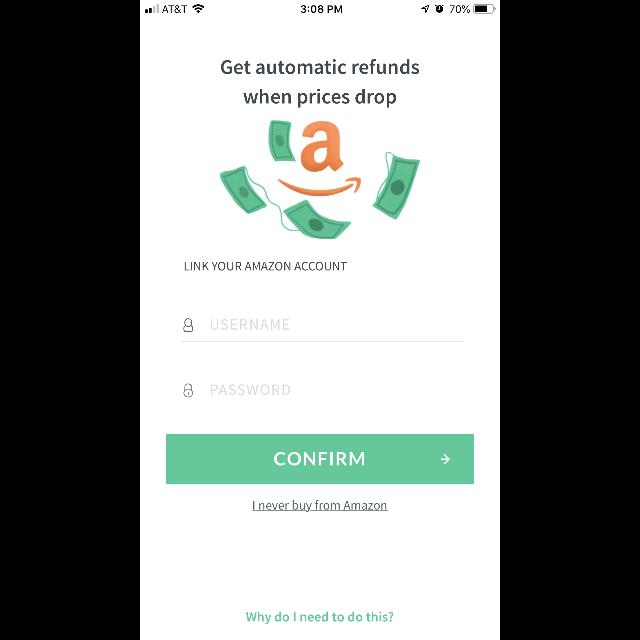icon: (184, 383, 194, 397), (184, 318, 194, 332), (440, 454, 450, 464)
image: (220, 120, 420, 240)
input: (181, 318, 463, 342), (182, 384, 464, 404)
text: (221, 59, 419, 108), (246, 612, 394, 624), (252, 500, 388, 512), (185, 262, 347, 270), (212, 384, 290, 396), (211, 320, 289, 330)
textbutton: (166, 434, 474, 484)
uppertaskbar: (140, 0, 500, 14)
